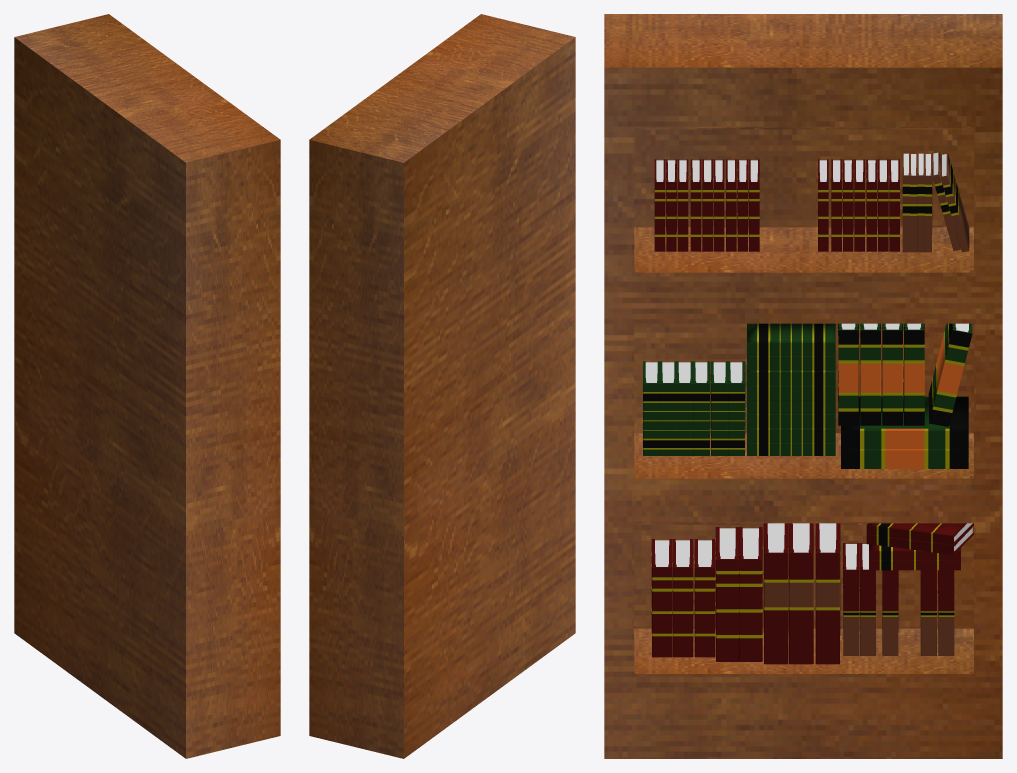
File: AdjustedBookcase.fbx
3 renders of one model, left to right at view 1: azimuth 30°, elevation 25°; view 2: azimuth 150°, elevation 25°; view 3: azimuth 270°, elevation 25°, orthographic. The views are drawn at different scales.
Visible parts, largest first — view 1: Bookcase; view 2: Bookcase; view 3: Bookcase.
Boxes of the visible parts, left/top/right/bottom form: Bookcase: left=14, top=14, right=280, bottom=758; Bookcase: left=309, top=14, right=575, bottom=758; Bookcase: left=604, top=14, right=1002, bottom=758.
Bounding box in the file's own units: 39.51 × 238 × 124.
